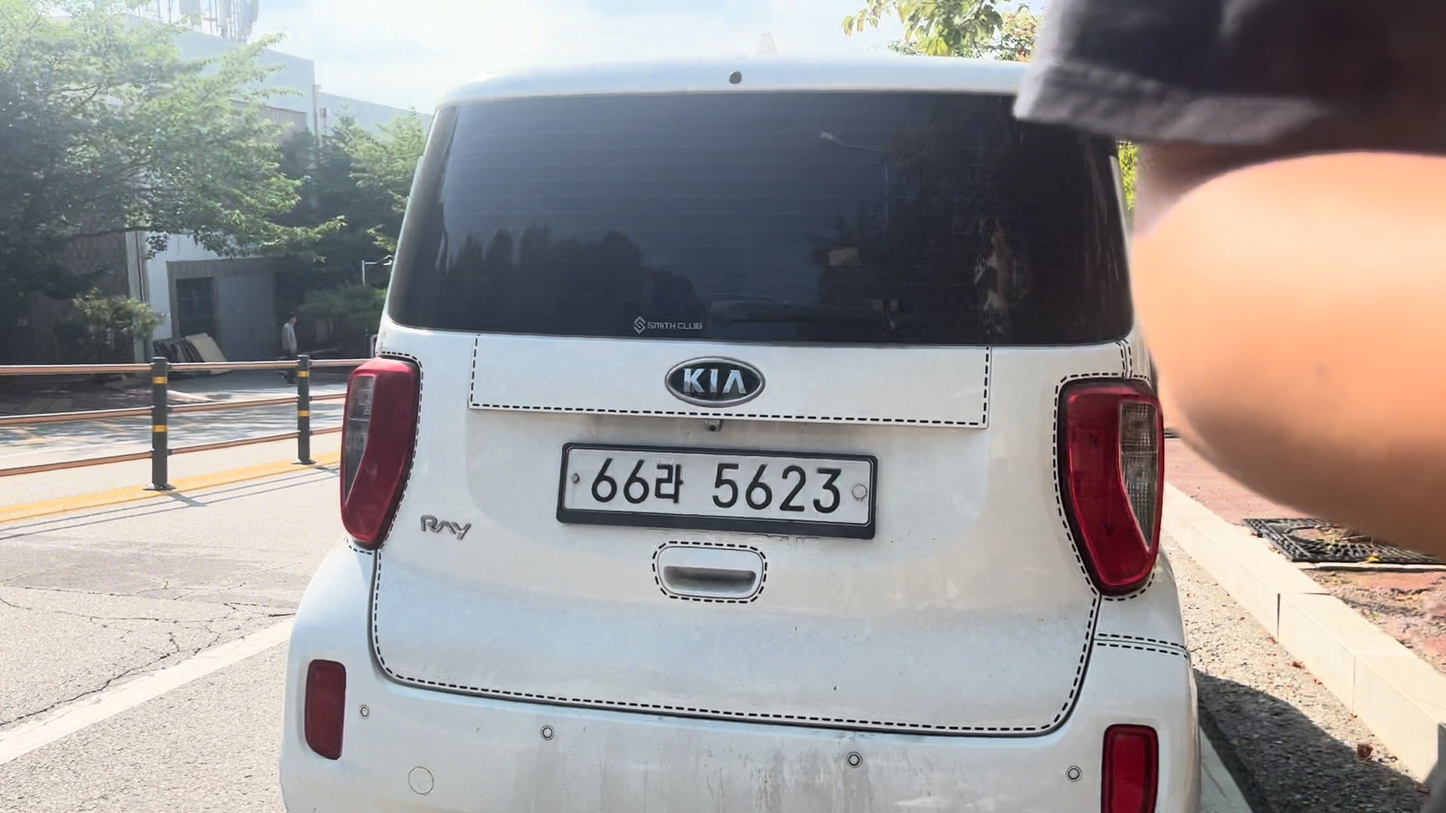car_emblem: (668, 358, 767, 402)
license_plate: (557, 444, 876, 538)
tail_light: (1058, 381, 1164, 595), (341, 358, 419, 547), (1102, 725, 1158, 812), (304, 659, 345, 760)
